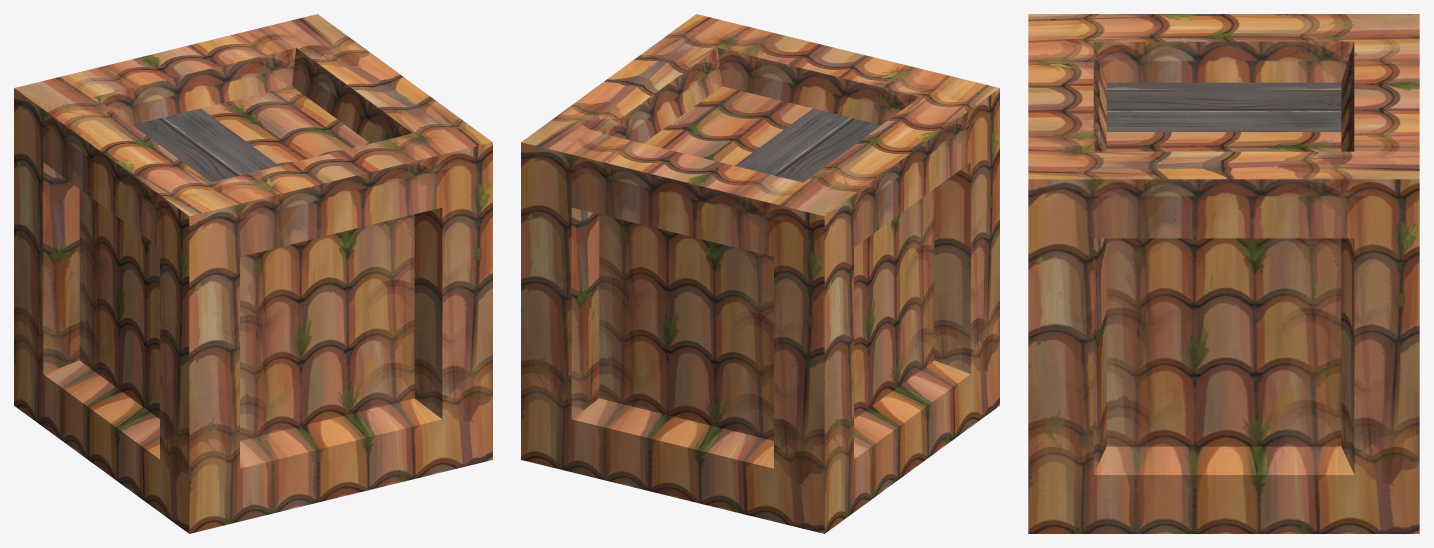
File: crate_A_big.gltf
The picture shows the model from 3 angles, left to right: view 1: azimuth 30°, elevation 25°; view 2: azimuth 150°, elevation 25°; view 3: azimuth 270°, elevation 25°; orthographic projection. The views are drawn at different scales.
Parts seen in each view (by area): view 1: crate_A_big; view 2: crate_A_big; view 3: crate_A_big.
Part boxes in pixels (left/top/right/bottom): crate_A_big: left=14, top=14, right=492, bottom=533; crate_A_big: left=521, top=14, right=999, bottom=533; crate_A_big: left=1028, top=14, right=1419, bottom=533.
Bounding box in the file's own units: 0.21 × 0.21 × 0.21.
2 materials, 2 textured.
